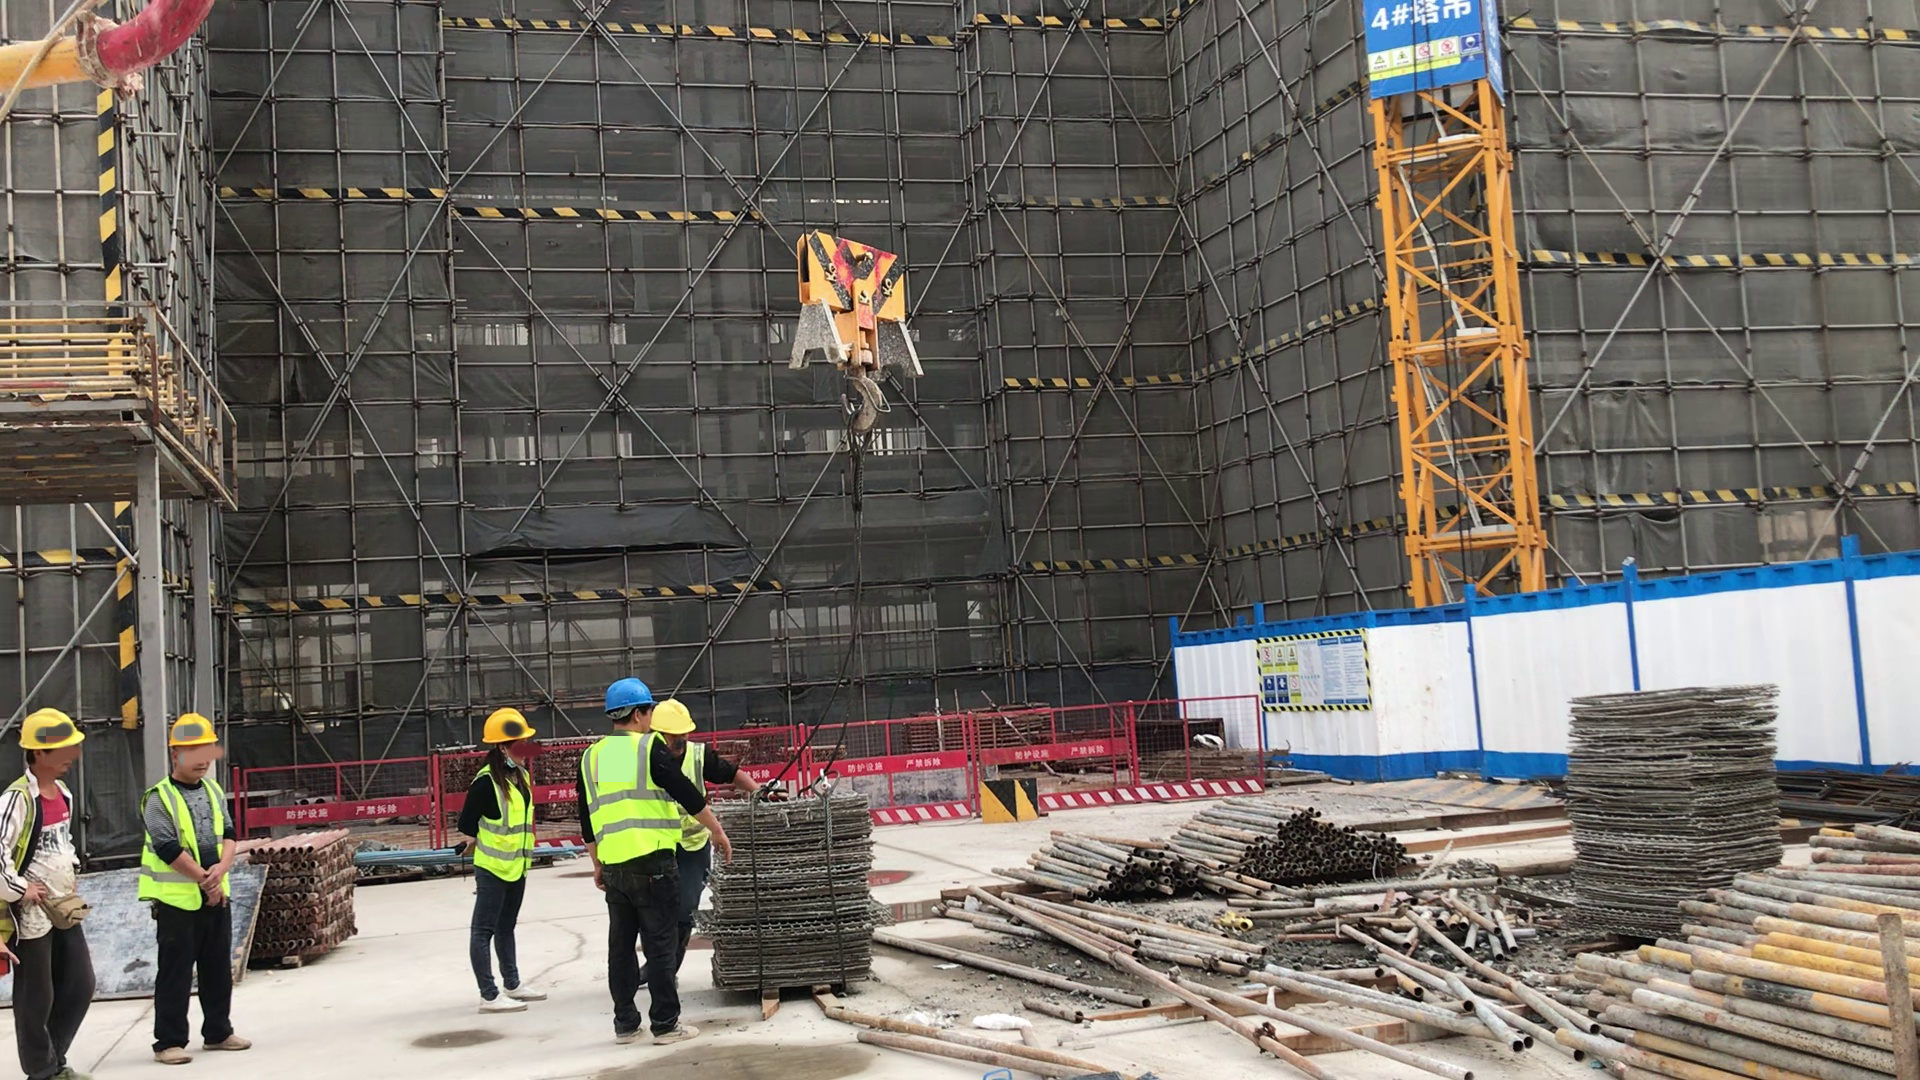fence: (1052, 698, 1267, 809), (871, 708, 976, 827), (359, 749, 452, 843)
helmet: (13, 711, 85, 752), (164, 714, 222, 753), (479, 705, 537, 745), (602, 678, 657, 713), (655, 700, 696, 736)
hook: (789, 226, 926, 431)
person: (578, 676, 734, 1049), (138, 713, 256, 1065), (2, 708, 106, 1080), (457, 702, 551, 1019)
scaffold: (1578, 822, 1920, 1079), (1002, 795, 1417, 891), (260, 820, 362, 965)
slogan: (1369, 1, 1493, 86), (1256, 637, 1369, 706)
vest: (578, 733, 686, 869), (140, 774, 235, 913), (477, 763, 536, 884), (5, 781, 41, 953)
